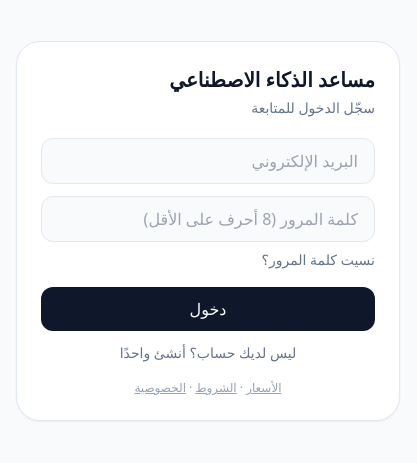
Test: AuthForm › عند فشل الدخول يعرض رسالة الخطأ القادمة من الخادم
Type "test@example.com" into the field with placeholder "البريد الإلكتروني" at x=208, y=161, box [41, 138, 375, 184]
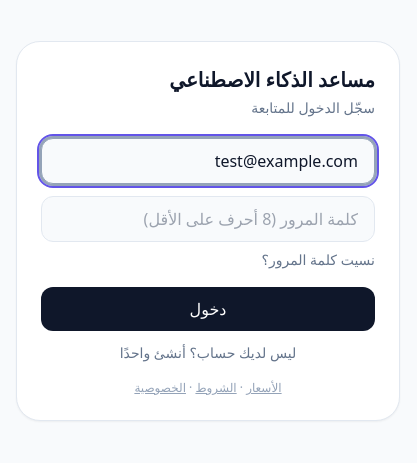
Type "WrongPass123" into the password field with placeholder "كلمة المرور (8 أحرف على الأقل)" at x=208, y=219, box [41, 196, 375, 242]
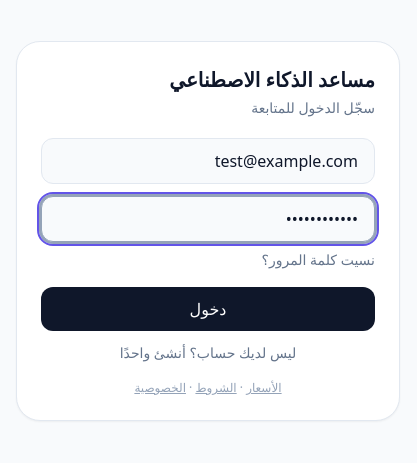
Click the button "دخول" at x=208, y=309, box [41, 287, 375, 331]
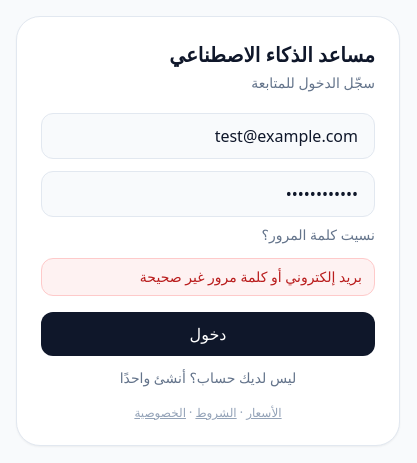
Check: the text "بريد إلكتروني أو كلمة مرور غير صحيحة" is shown, box [41, 258, 375, 296]
